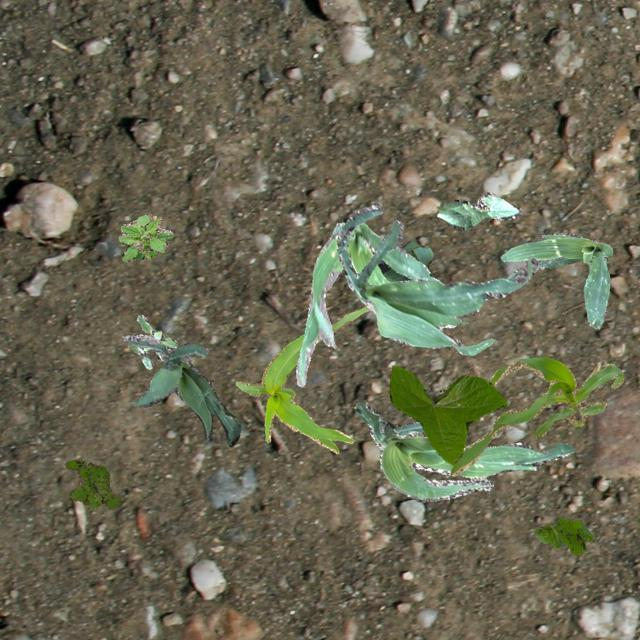crop: (336, 202, 536, 354), (294, 222, 456, 386), (353, 400, 572, 500), (449, 356, 622, 476), (234, 304, 370, 452), (120, 334, 240, 446), (388, 364, 506, 464), (499, 232, 612, 328), (436, 192, 522, 230), (376, 238, 432, 282)
weed: (64, 458, 120, 508), (126, 314, 176, 368), (118, 212, 172, 260), (534, 518, 594, 554)
